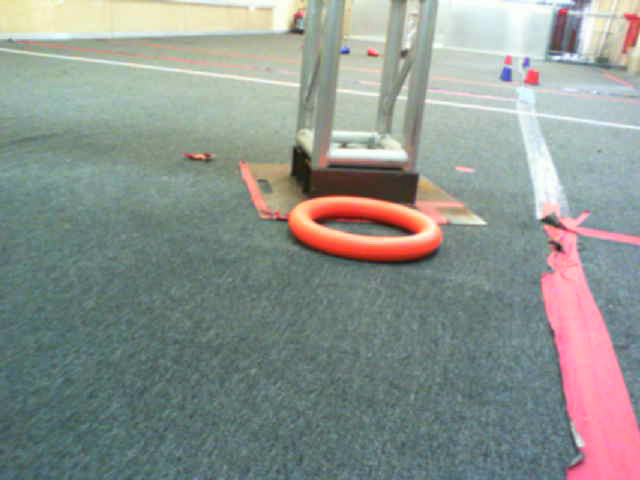Note: (292, 198, 445, 270), (365, 192, 369, 196)
